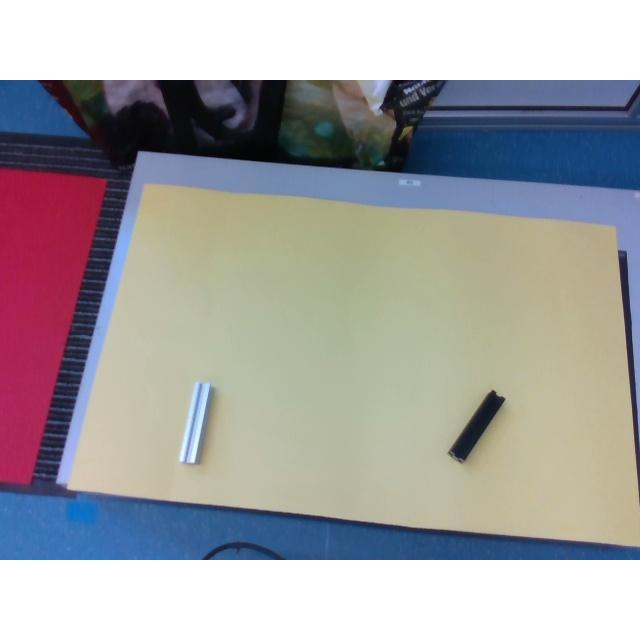F20_20_B: (448, 390, 506, 462)
F20_20_G: (178, 381, 210, 463)
